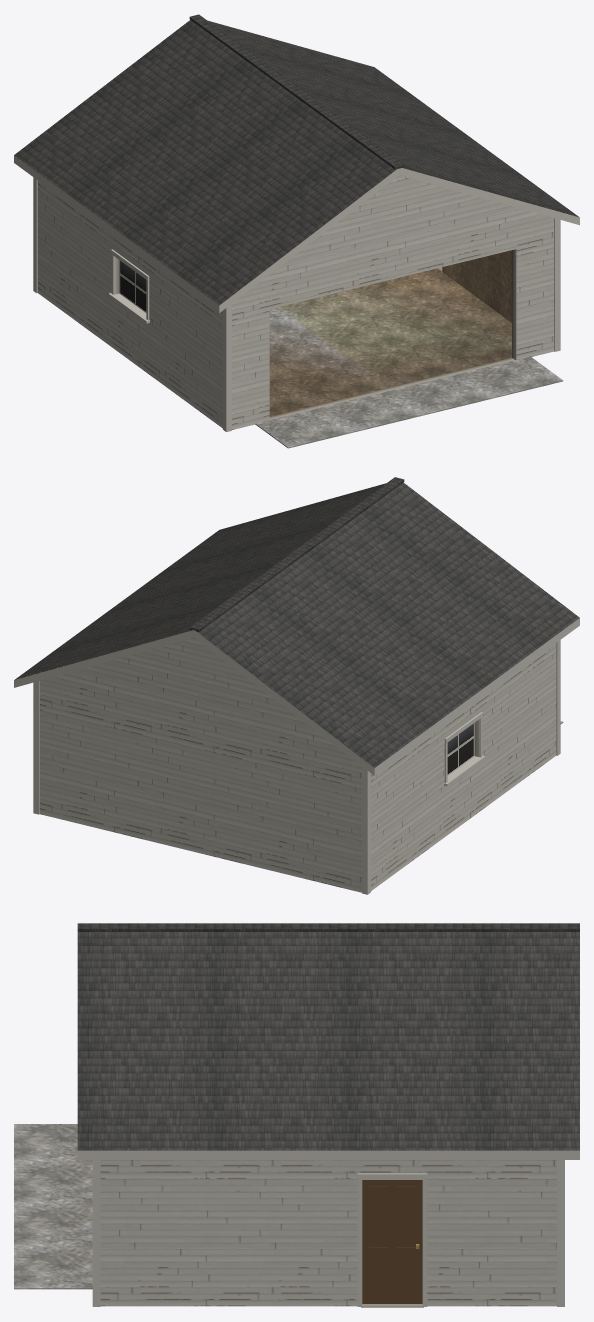
File: town_garage_open 2.gltf
3 renders of one model, top to bottom at view 1: azimuth 30°, elevation 25°; view 2: azimuth 150°, elevation 25°; view 3: azimuth 270°, elevation 25°, orthographic. The views are drawn at different scales.
Visible parts, largest first — view 1: TownGarageOpen_Roof, TownGarageOpen_Walls, TownGarageOpen_InsideFloor, TownGarageOpen_Apron, TownGarageOpen_Fascia, TownGarageOpen_Trim, TownGarageOpen_InsideWalls, TownGarageOpen_Ridge, TownGarageOpen_Reveals, TownGarageOpen_Window; view 2: TownGarageOpen_Walls, TownGarageOpen_Roof, TownGarageOpen_Fascia, TownGarageOpen_Trim, TownGarageOpen_Ridge, TownGarageOpen_Window; view 3: TownGarageOpen_Roof, TownGarageOpen_Walls, TownGarageOpen_Apron, TownGarageOpen_ClosedDoor, TownGarageOpen_Fascia, TownGarageOpen_Ridge, TownGarageOpen_Trim.
Boxes of the visible parts, <box> form: TownGarageOpen_Roof: <box>14,20,579,305</box>; TownGarageOpen_Walls: <box>37,175,554,429</box>; TownGarageOpen_InsideFloor: <box>269,268,511,416</box>; TownGarageOpen_Apron: <box>255,356,563,448</box>; TownGarageOpen_Fascia: <box>14,155,579,312</box>; TownGarageOpen_Trim: <box>33,177,560,431</box>; TownGarageOpen_InsideWalls: <box>442,250,511,322</box>; TownGarageOpen_Ridge: <box>189,14,404,169</box>; TownGarageOpen_Reveals: <box>114,249,516,419</box>; TownGarageOpen_Window: <box>119,260,146,312</box>; TownGarageOpen_Walls: <box>39,637,556,892</box>; TownGarageOpen_Roof: <box>15,482,579,767</box>; TownGarageOpen_Fascia: <box>14,618,579,775</box>; TownGarageOpen_Trim: <box>33,640,560,894</box>; TownGarageOpen_Ridge: <box>189,477,404,631</box>; TownGarageOpen_Window: <box>447,723,474,775</box>; TownGarageOpen_Roof: <box>77,932,579,1150</box>; TownGarageOpen_Walls: <box>100,1160,556,1306</box>; TownGarageOpen_Apron: <box>14,1124,92,1289</box>; TownGarageOpen_ClosedDoor: <box>362,1180,422,1303</box>; TownGarageOpen_Fascia: <box>77,1150,579,1159</box>; TownGarageOpen_Ridge: <box>77,923,579,931</box>; TownGarageOpen_Trim: <box>92,1160,564,1306</box>.
Size of what is drawn, in the model's own units: 7.6 by 4.63 by 8.45.
Materials: 2 (2 with a texture image).
